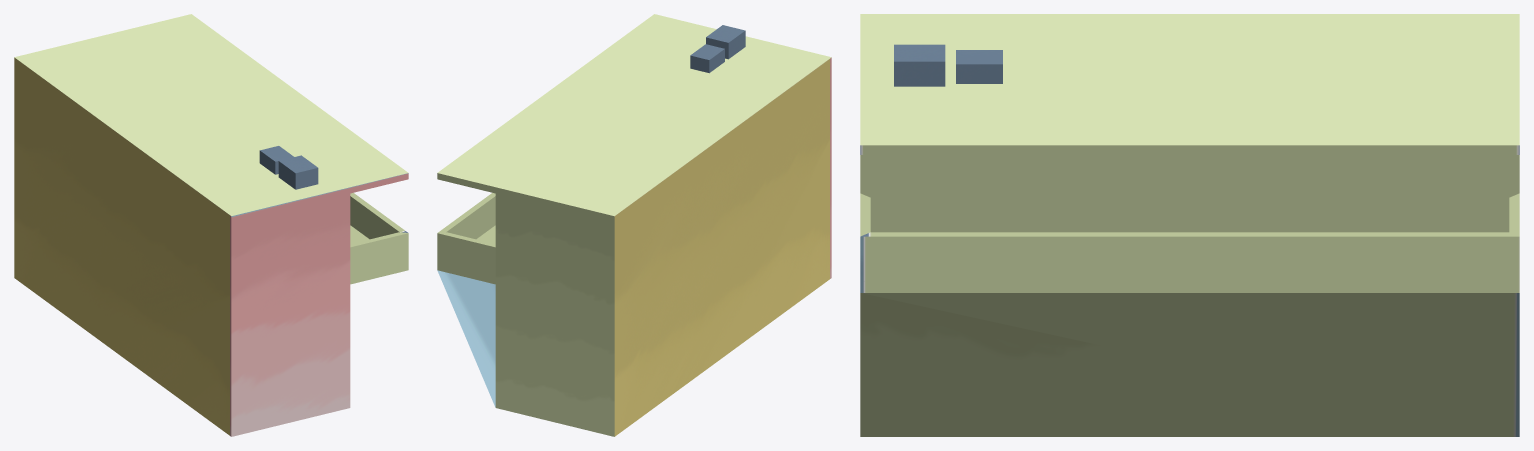
Rendered from boutik_kenza.fbx.
3 views of the same model, side by side, from view 1: azimuth 30°, elevation 25°; view 2: azimuth 150°, elevation 25°; view 3: azimuth 270°, elevation 25° (orthographic). The views are drawn at different scales.
Visible parts, largest first — view 1: boutik_kenza; view 2: boutik_kenza; view 3: boutik_kenza.
Part boxes in pixels (x1,y1,x2,y2): boutik_kenza: (14, 14, 408, 436); boutik_kenza: (437, 14, 831, 436); boutik_kenza: (860, 14, 1519, 436).
Size of the model in its own units: 309 by 395 by 655.
